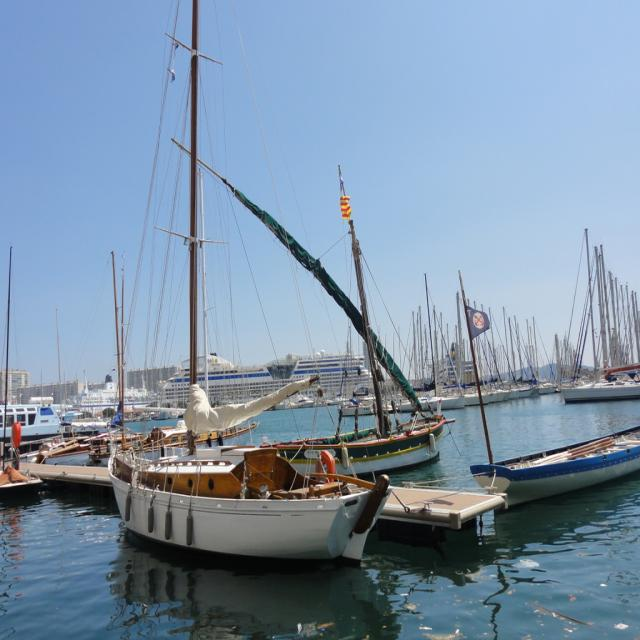Boat: (108, 0, 394, 565), (0, 246, 391, 500), (272, 161, 444, 478), (458, 271, 640, 514), (334, 272, 561, 419), (558, 223, 640, 399)
